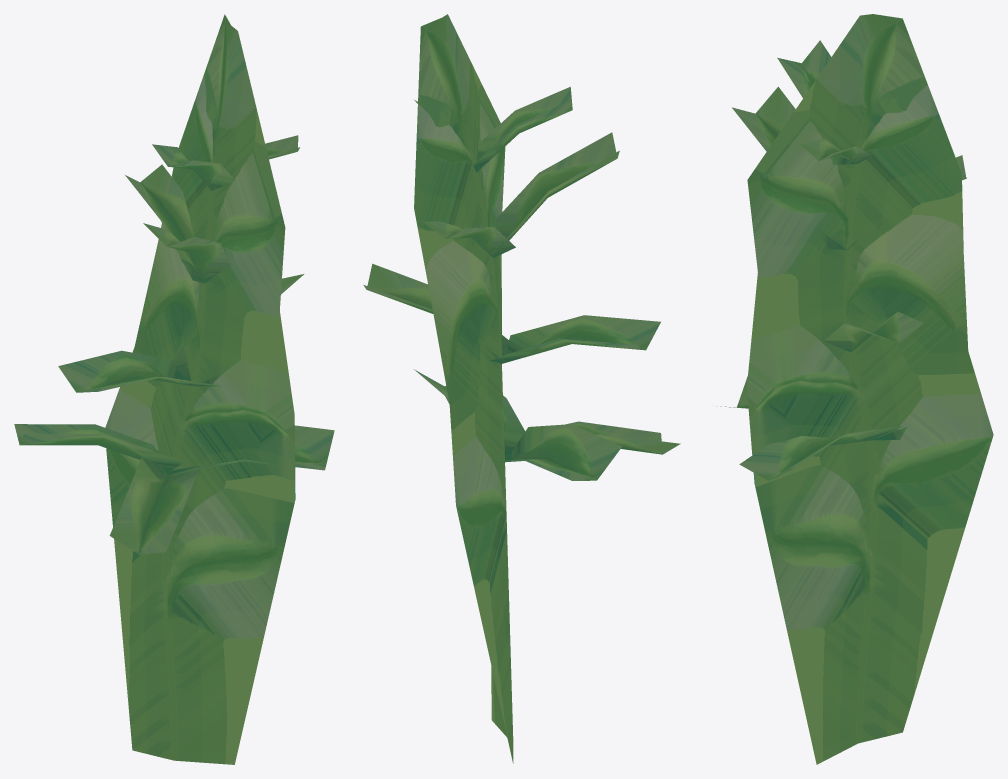
The model's file is SM_Plant_01_01.fbx.
3 views of the same model, side by side, from view 1: azimuth 30°, elevation 25°; view 2: azimuth 150°, elevation 25°; view 3: azimuth 270°, elevation 25° (orthographic). The views are drawn at different scales.
Visible parts, largest first — view 1: SM_Plant_01_01_LOD0; view 2: SM_Plant_01_01_LOD0; view 3: SM_Plant_01_01_LOD0.
Boxes of the visible parts, x1,y1,x2,y2 form: SM_Plant_01_01_LOD0: [14, 14, 334, 764]; SM_Plant_01_01_LOD0: [363, 14, 680, 763]; SM_Plant_01_01_LOD0: [716, 14, 993, 764].
Size of what is drawn, in the model's own units: 33.64 by 86.68 by 29.28.
